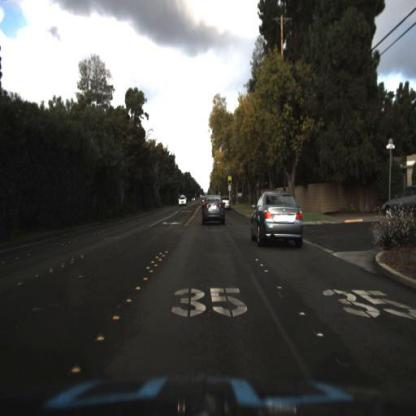car: (250, 190, 307, 252), (199, 193, 231, 232), (383, 185, 416, 218), (221, 194, 233, 213), (176, 193, 189, 210)
